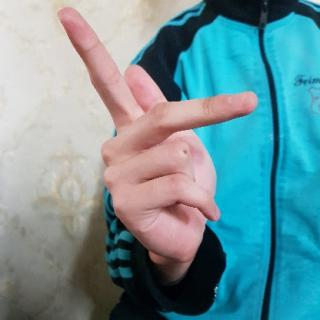DHAA: (54, 3, 278, 264)
